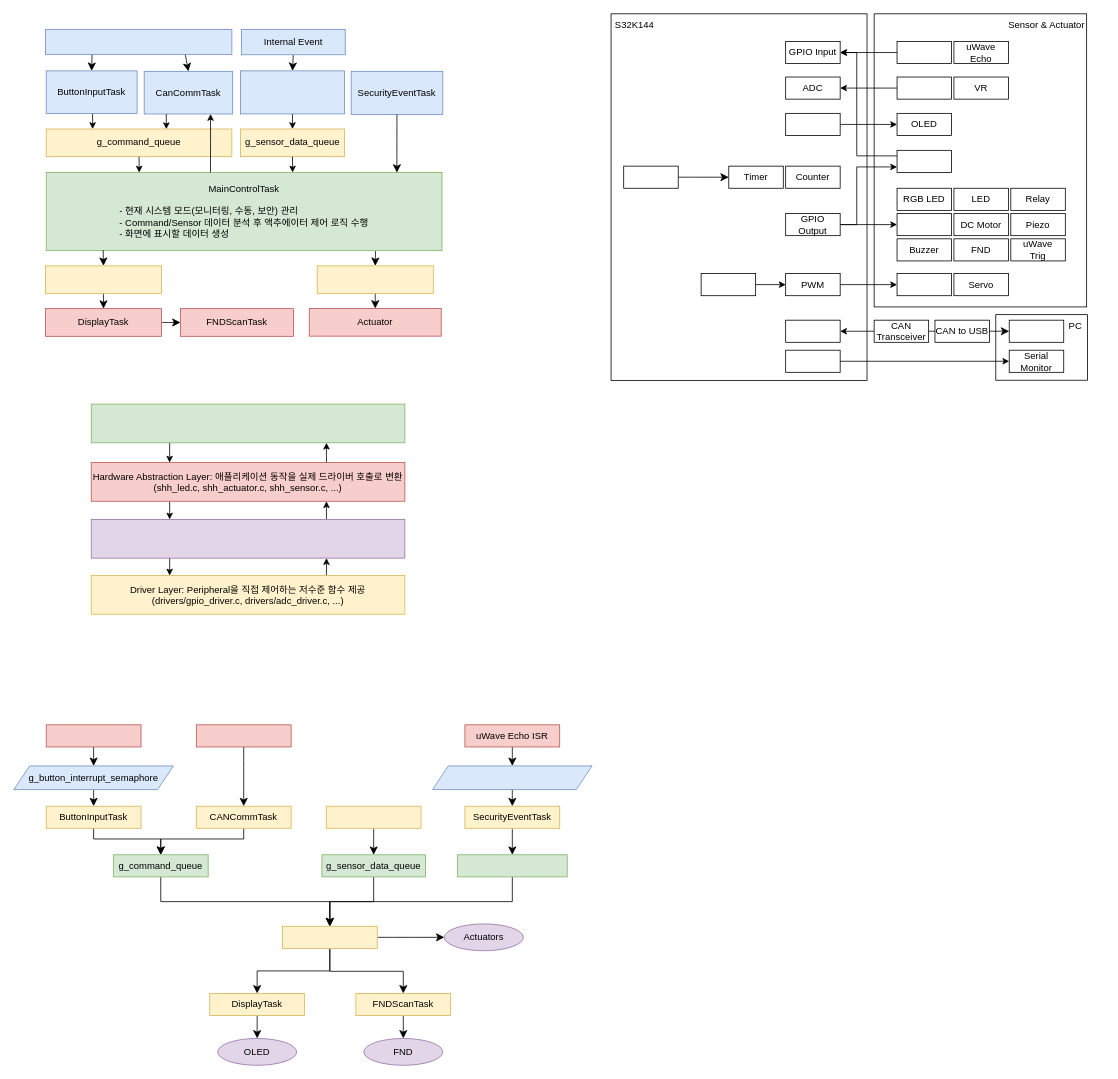
Some shapes in this 1118 by 1079 pixel diagram are drawn without their labels. The shapes that lost their labels are listed below. From the top down, each one's box as (x1, y1, x2, y2) in pixels, then its label:
(45, 29, 232, 54): External Event
(896, 41, 952, 64): Button
(240, 70, 344, 114): SensorTask
(896, 76, 952, 99): CDS
(785, 113, 840, 135): LPI2C
(623, 165, 678, 188): LPIT
(896, 150, 952, 172): Temp/Humi
(896, 213, 952, 236): Step Motor
(45, 265, 162, 293): g_display_data
(316, 265, 433, 293): g_system_status
(700, 273, 756, 296): FTM
(896, 273, 952, 296): LED 8
(785, 319, 840, 342): FlexCAN
(1008, 319, 1064, 342): CANView
(785, 349, 840, 372): LPUART
(90, 403, 405, 443): Task Layer: RTOS 태스크의 실제 기능을 구현 (sh_tasks.c)
(90, 519, 405, 558): Middleware Layer: RTOS 객체 및 공유 데이터 구조를 정의하고 관리 (sh_config.h)
(45, 724, 141, 747): Button ISR
(196, 724, 291, 747): CAN RX ISR
(432, 765, 592, 790): g_uwave_interrupt_semaphore
(325, 805, 421, 828): SensorTask (1000ms)
(457, 854, 567, 877): g_security_event_group
(282, 925, 377, 948): MainControlTask
